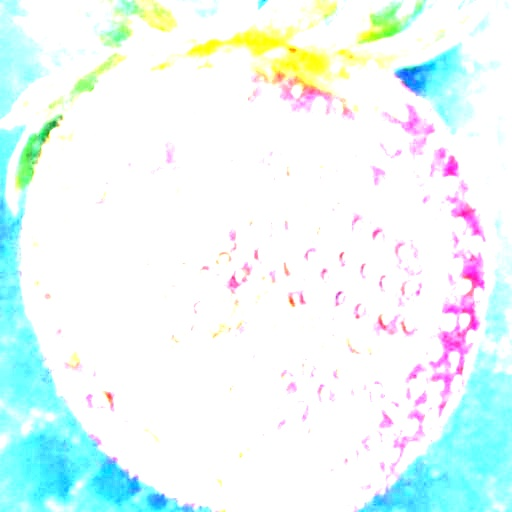Anthracnose Fruit Rot: (98, 128, 445, 371)
